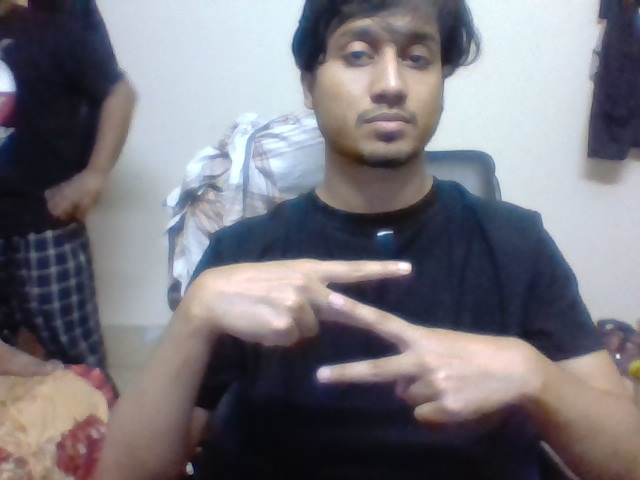Z: (313, 252, 419, 393)
